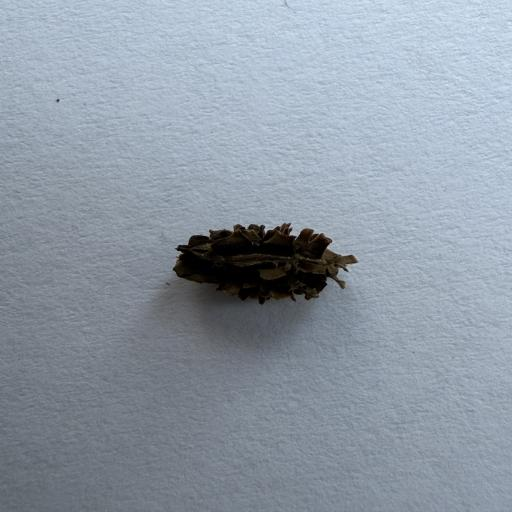papaya_seed: (149, 188, 379, 322)
